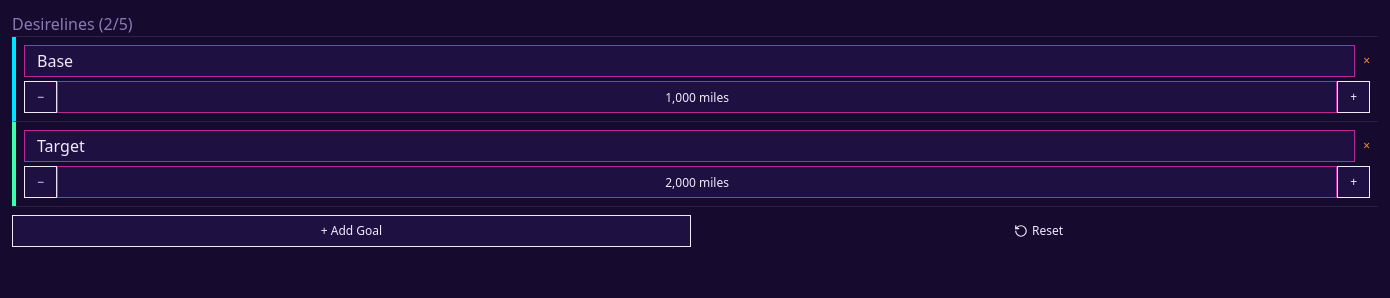
GoalControls › Inline Validation › displays inline error when invalid value is entered
// Click on first goal to edit
Replace the text in the field showing "1000" with "-100" at coordinates (697, 97), box [57, 81, 1337, 113]
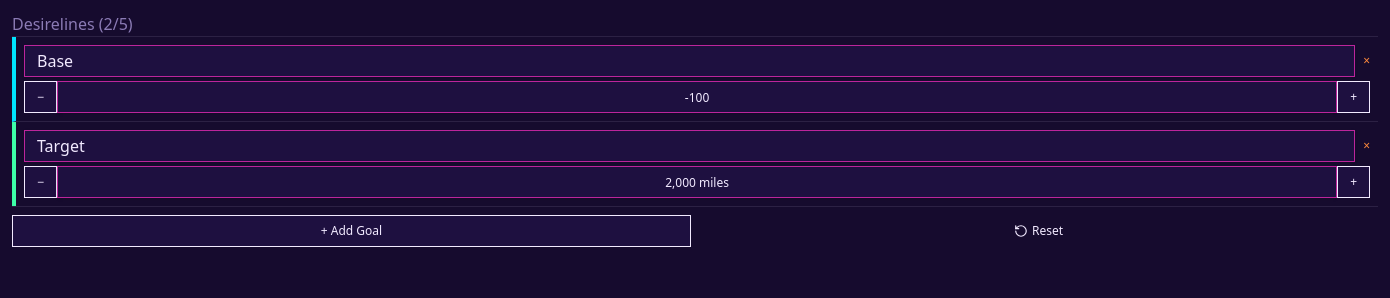
Leave the field showing "1000", box [57, 81, 1337, 113]
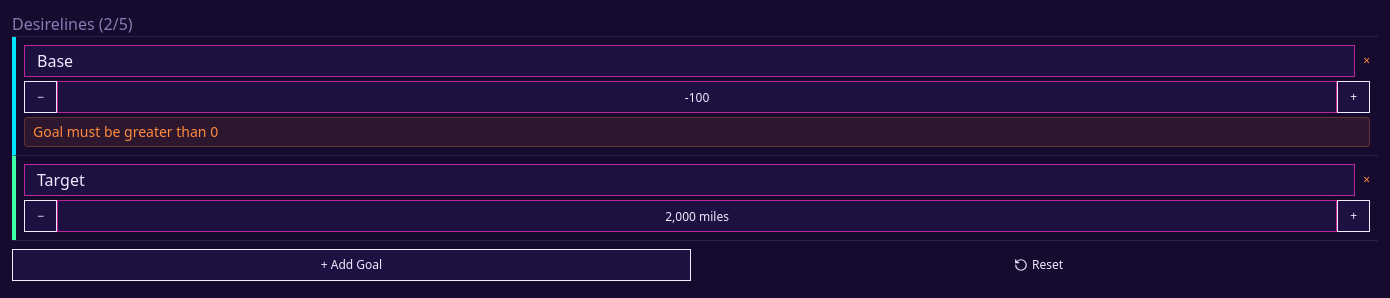
Expected: the message reads "Goal must be greater than 0", [33, 122, 218, 141]
